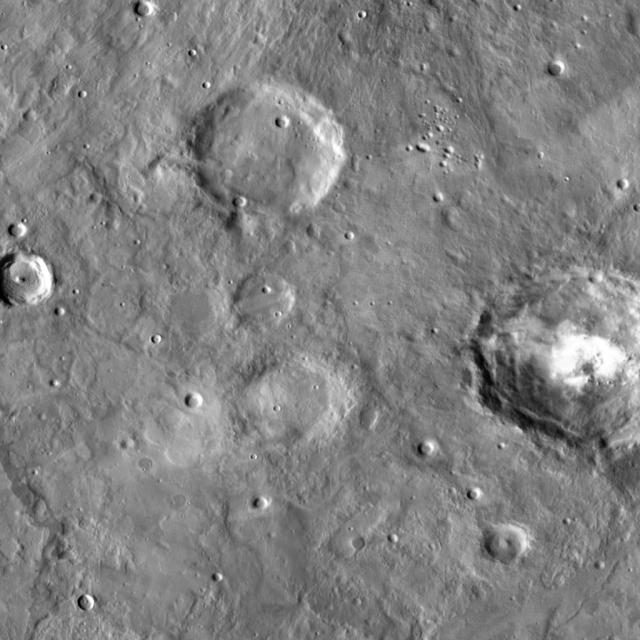crater: (477, 263, 640, 449), (191, 84, 345, 218), (230, 350, 350, 454), (166, 285, 231, 341), (232, 272, 294, 327), (0, 249, 54, 306), (483, 519, 528, 559), (7, 219, 27, 236), (185, 391, 204, 408), (134, 0, 155, 14), (417, 437, 435, 452), (548, 58, 566, 73), (77, 593, 94, 608), (251, 494, 268, 509), (468, 483, 483, 496), (276, 114, 290, 127), (233, 195, 247, 207), (592, 269, 606, 281), (284, 240, 298, 252), (616, 176, 630, 187), (90, 188, 102, 200), (49, 376, 61, 387), (122, 438, 134, 448), (27, 108, 38, 118), (309, 227, 320, 237), (450, 45, 461, 55), (214, 572, 224, 582), (56, 304, 66, 314), (389, 531, 399, 541), (434, 194, 444, 203), (154, 334, 164, 343), (596, 558, 606, 567), (265, 287, 274, 295), (346, 232, 355, 240), (359, 9, 368, 17), (188, 47, 196, 55), (203, 80, 211, 88), (564, 514, 572, 522), (353, 597, 362, 604), (78, 88, 86, 94), (491, 432, 499, 438), (267, 397, 274, 402)
